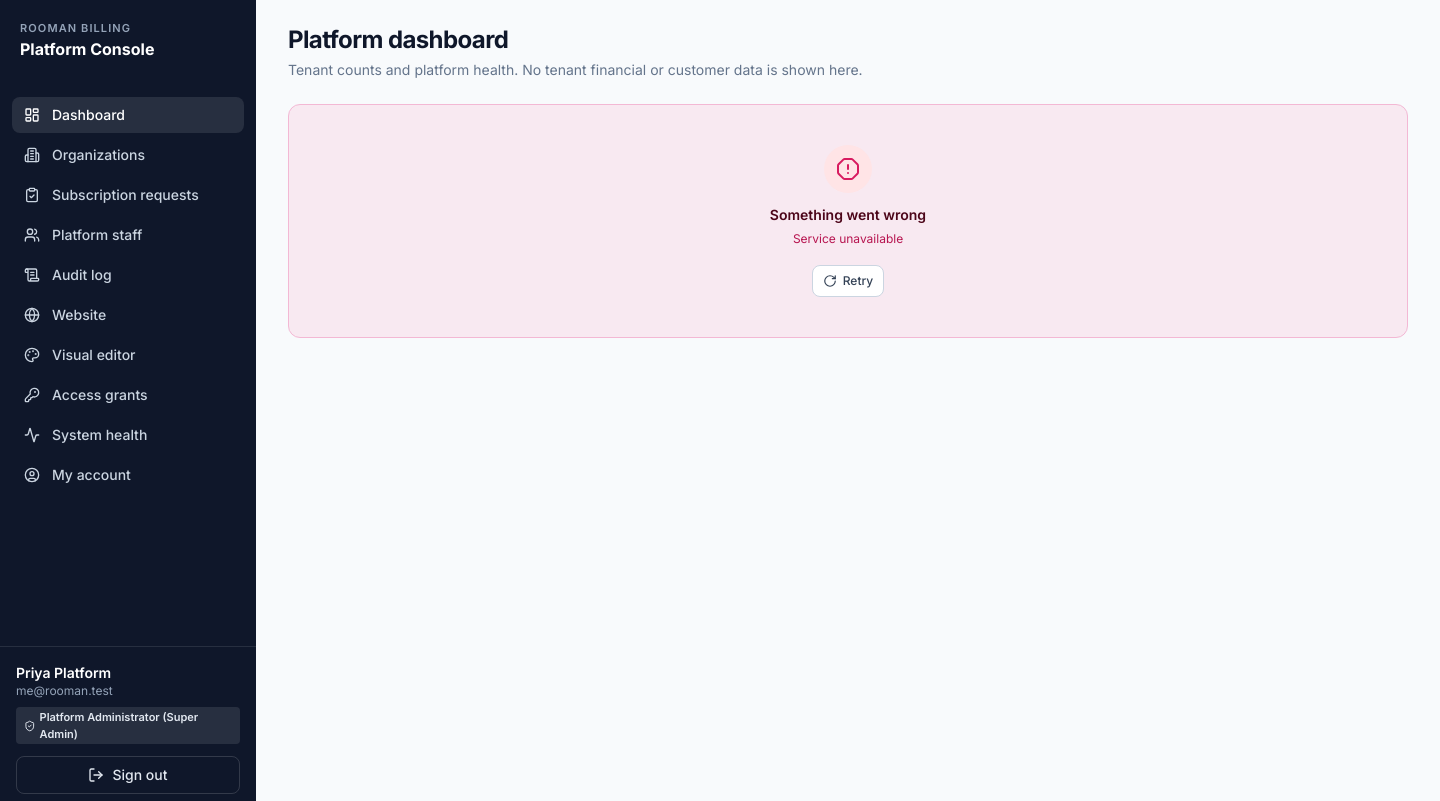
dashboard › shows an error with retry
Expected: the text "Service unavailable" is shown, [793, 229, 903, 248]
Click the button "Retry" at [848, 280], box [812, 264, 884, 296]
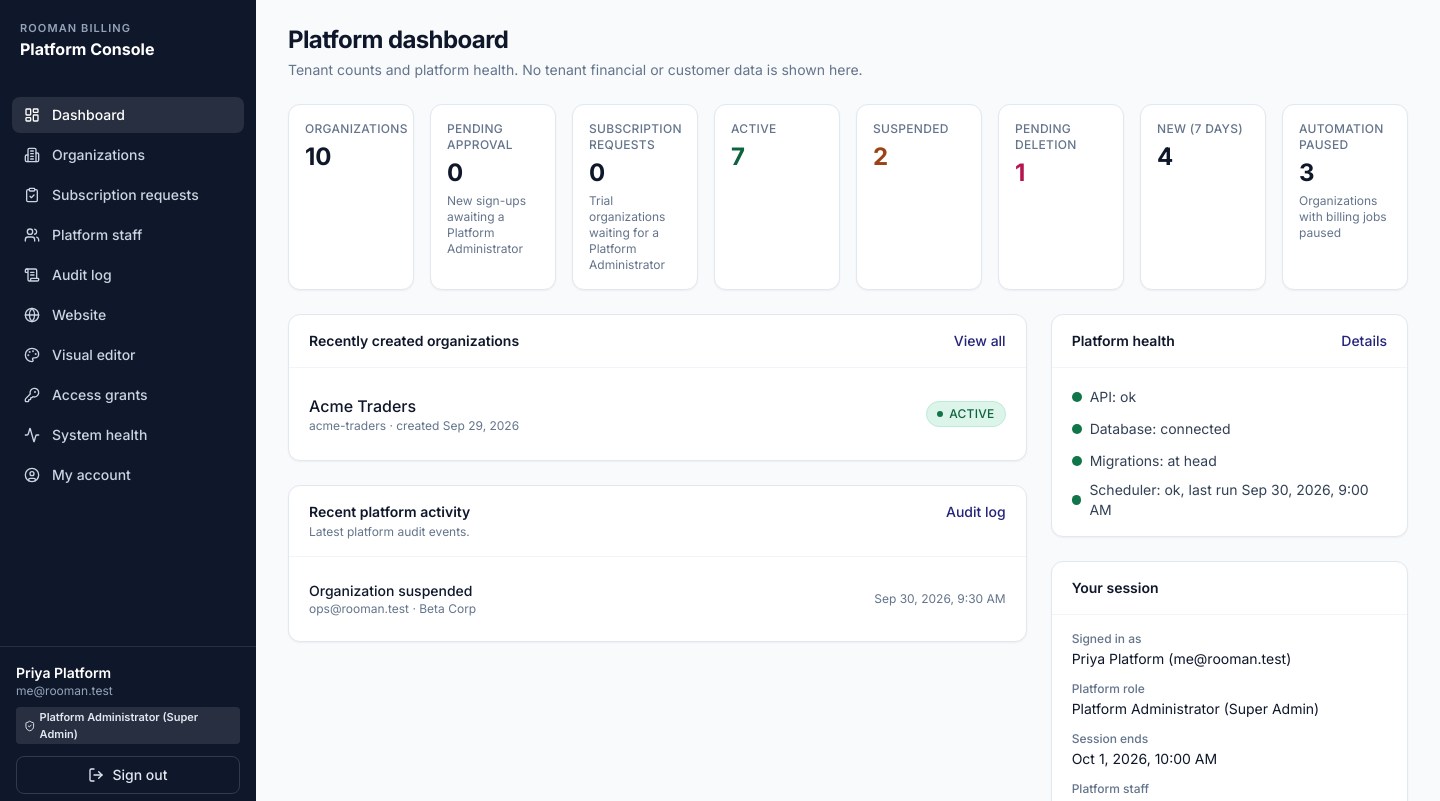
Expected: the link "Acme Traders" is shown, [309, 396, 416, 416]
